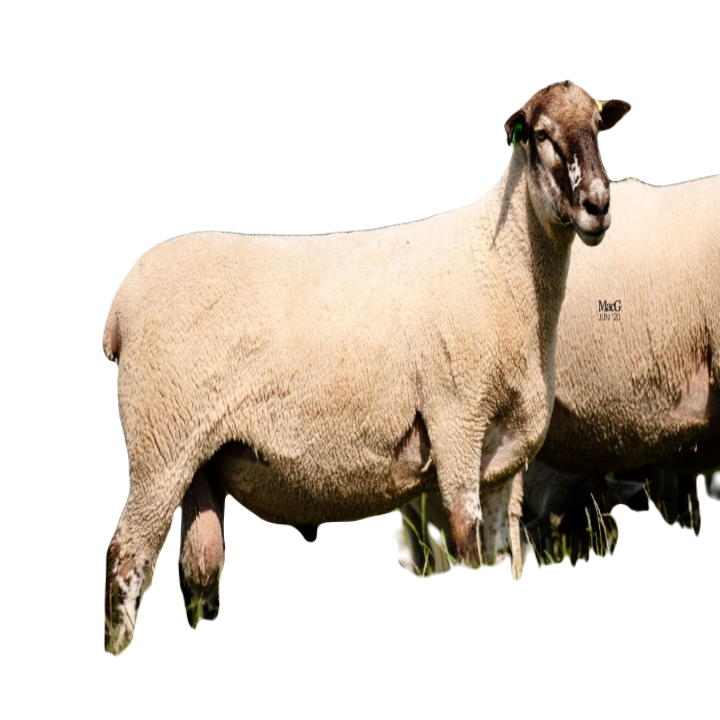Sheep: (56, 115, 638, 661)
